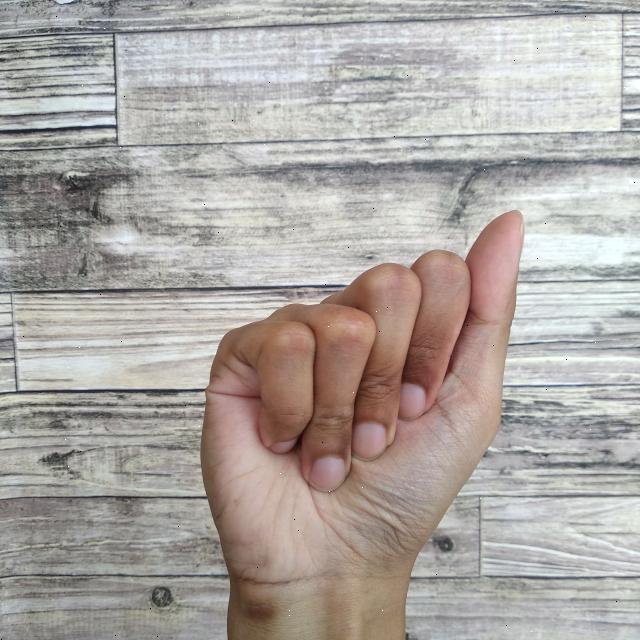A: (188, 187, 546, 640), (190, 191, 543, 640)
